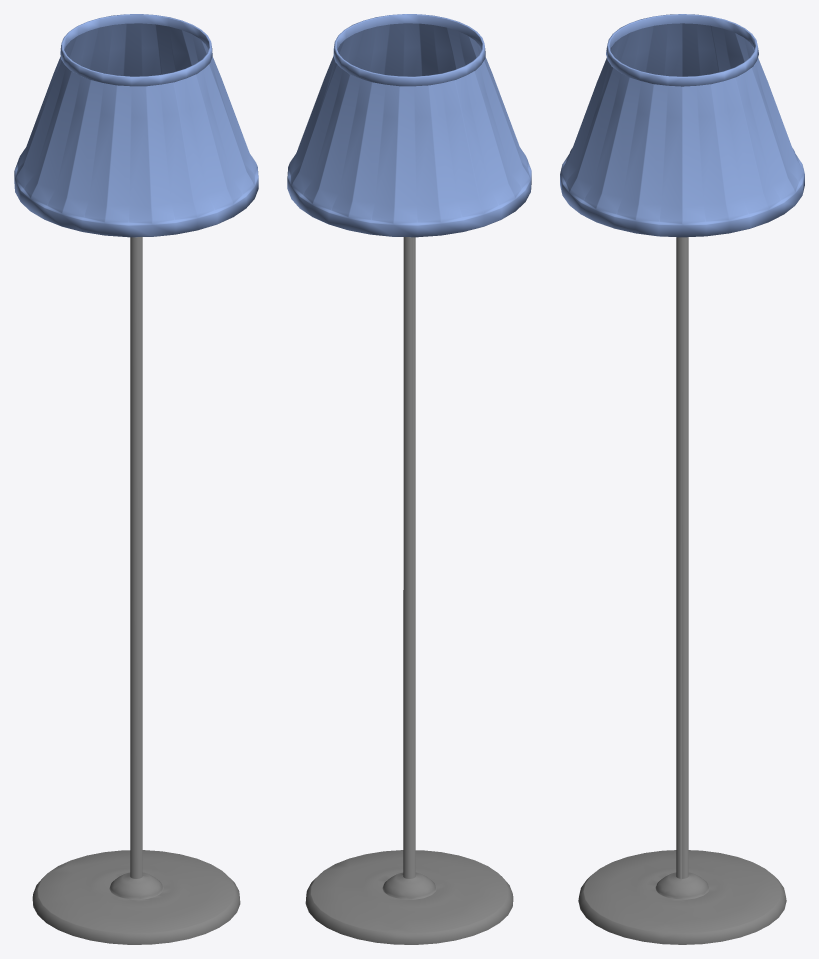
The model's file is lampada low.fbx.
3 views of the same model, side by side, from view 1: azimuth 30°, elevation 25°; view 2: azimuth 150°, elevation 25°; view 3: azimuth 270°, elevation 25° (orthographic).
Visible parts, largest first — view 1: Lamp; view 2: Lamp; view 3: Lamp.
Part boxes in pixels (<box>): Lamp: <box>14,14,258,944</box>; Lamp: <box>287,14,531,944</box>; Lamp: <box>560,14,804,944</box>.
Size of the model in its own units: 44.09 by 170 by 44.09.
